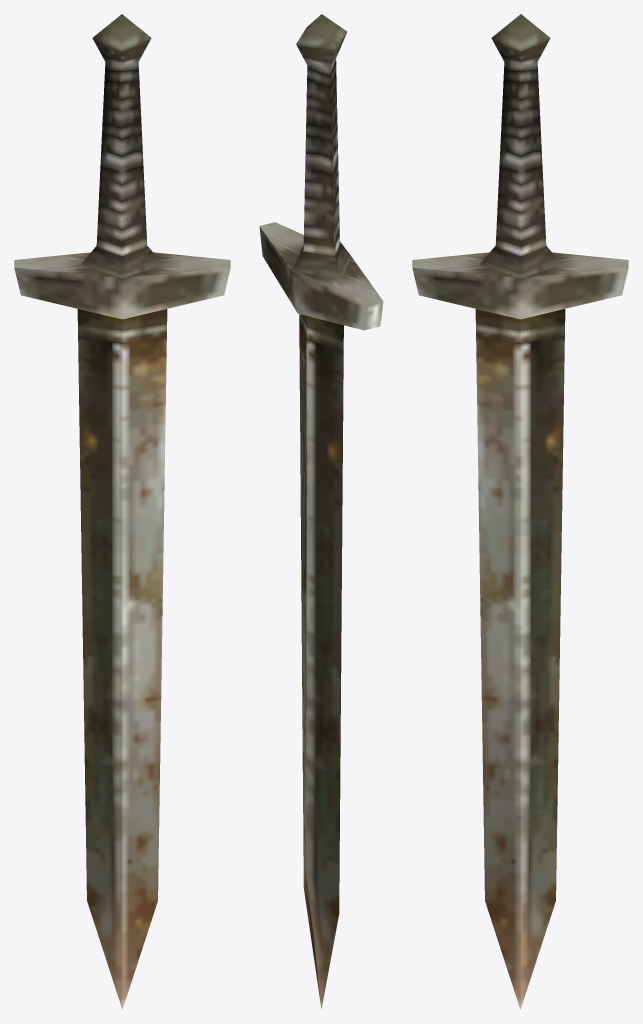
File: OZ_20_mi_wepon03A.glb
3 renders of one model, left to right at view 1: azimuth 90°, elevation 25°; view 2: azimuth 210°, elevation 25°; view 3: azimuth 270°, elevation 25°, orthographic.
Parts seen in each view (by area): view 1: OM_20_mi_wepon03A; view 2: OM_20_mi_wepon03A; view 3: OM_20_mi_wepon03A.
Boxes of the visible parts, box(x1,y1,x2,y2) form: OM_20_mi_wepon03A: box(14, 14, 230, 1009); OM_20_mi_wepon03A: box(259, 14, 383, 1009); OM_20_mi_wepon03A: box(412, 14, 628, 1009).
Size of the model in its own units: 0.0757 by 1.2 by 0.2368.
Materials: 1 (1 with a texture image).
